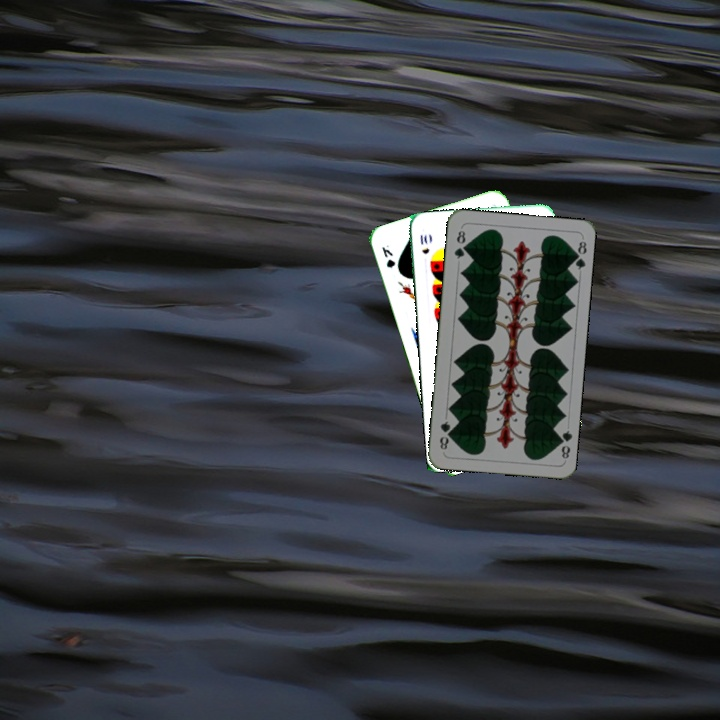G8: (553, 426, 574, 461), (450, 226, 469, 261)
GK: (378, 243, 398, 270)
S10: (416, 230, 432, 256)
